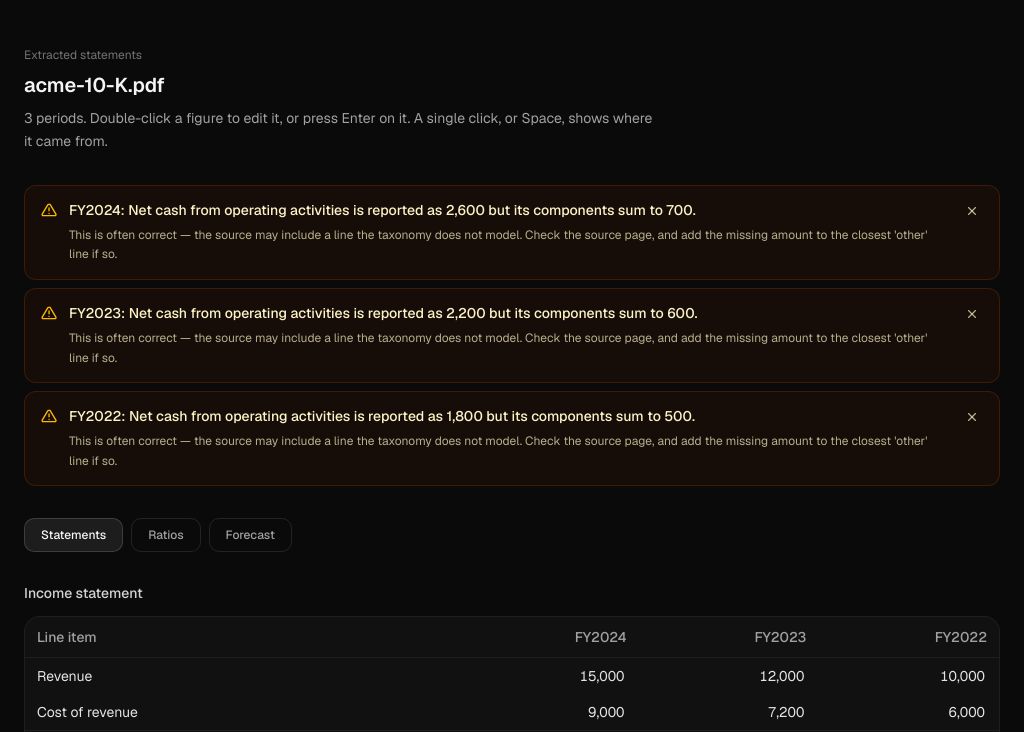
Test: provenance from a ratio › opens the panel for the component that was clicked
Click the tab "Ratios".
click(166, 535)  # box [131,518,201,552]
(page scrolled)
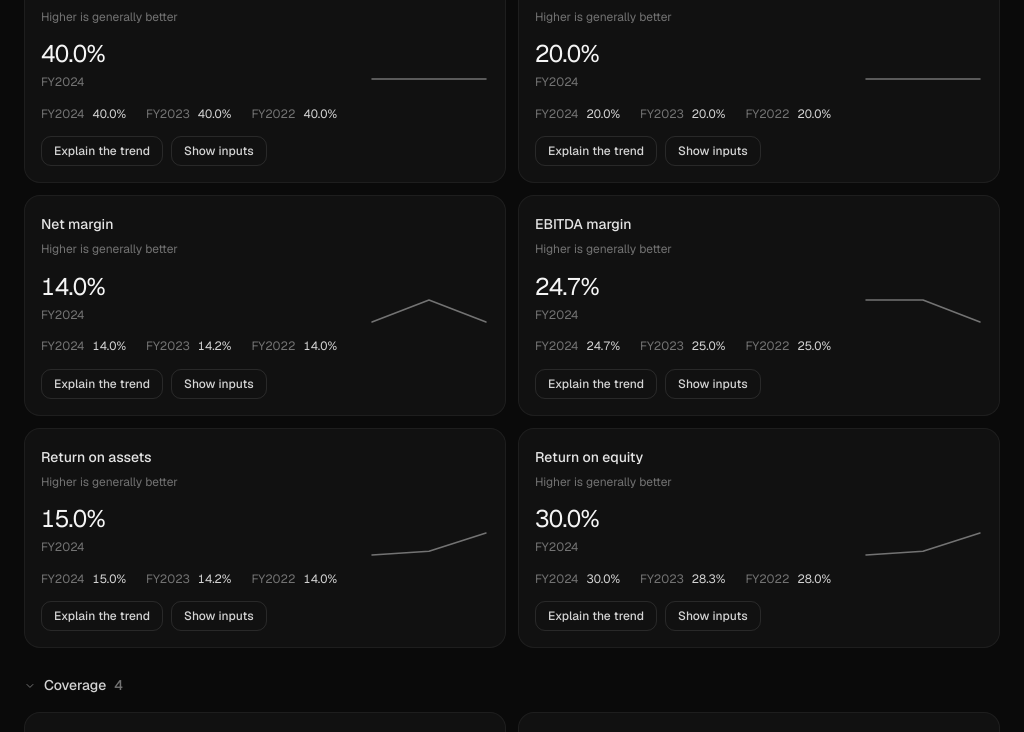
Click the 3rd button "Show inputs".
click(219, 384)  # box [171,369,267,399]
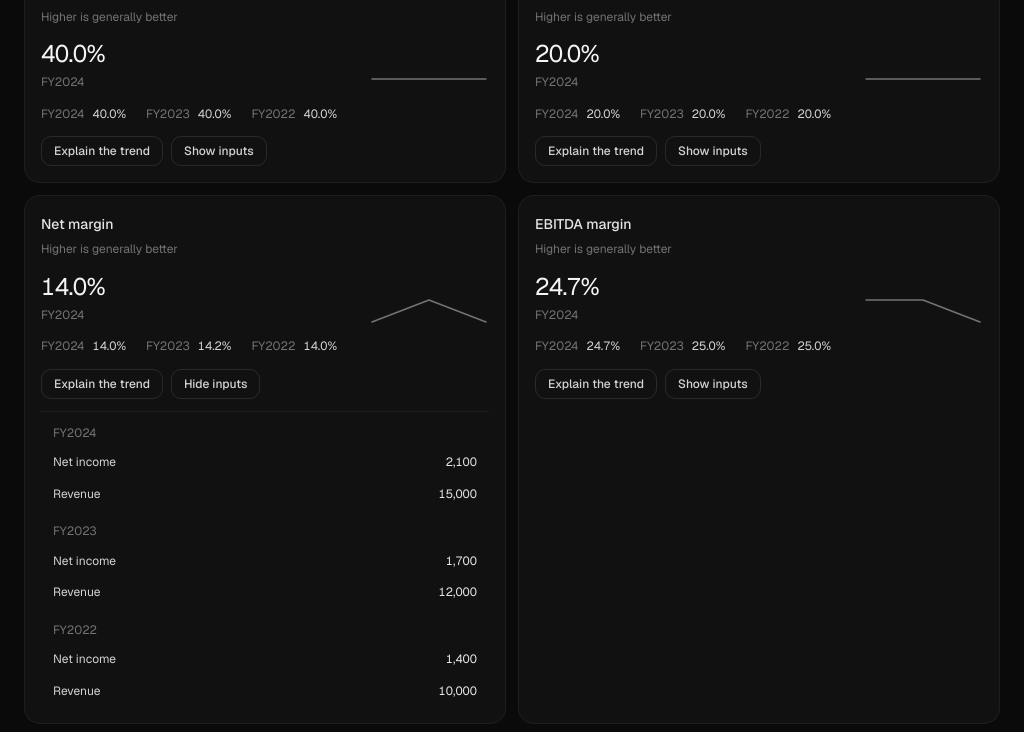
Click the button with aria-label "Revenue, FY2024".
click(77, 494)  # box [41,479,489,510]
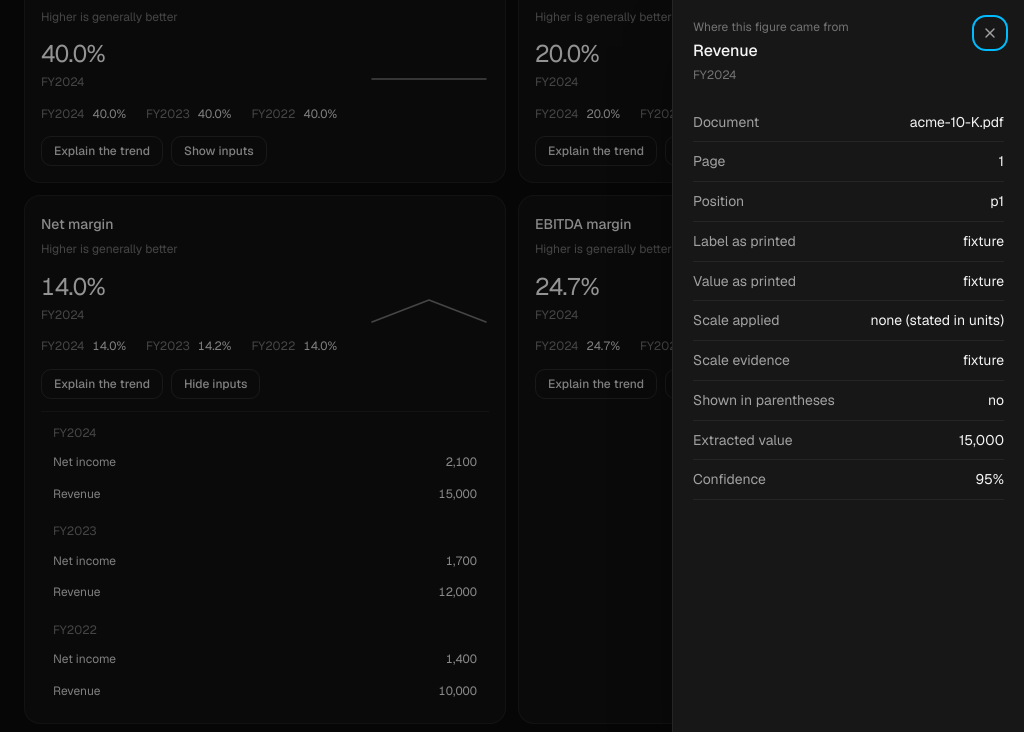
Expected: the text "Where this figure came from" is shown, [693,19,849,36]
